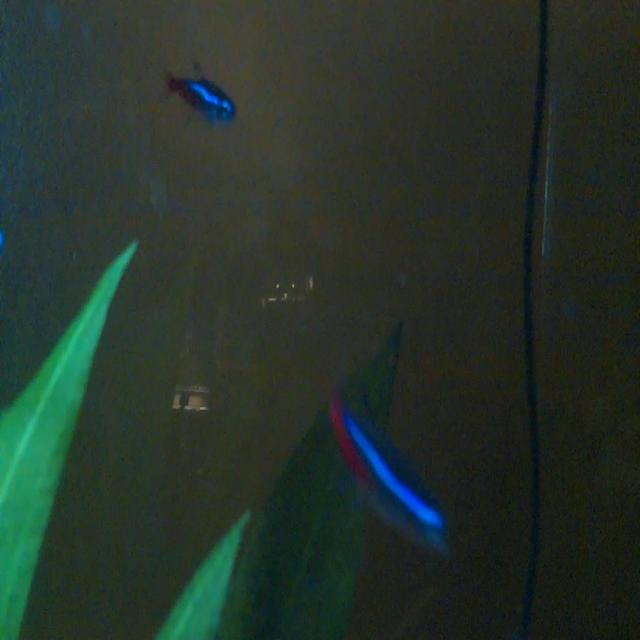fish: (306, 378, 464, 566), (148, 52, 244, 144)
